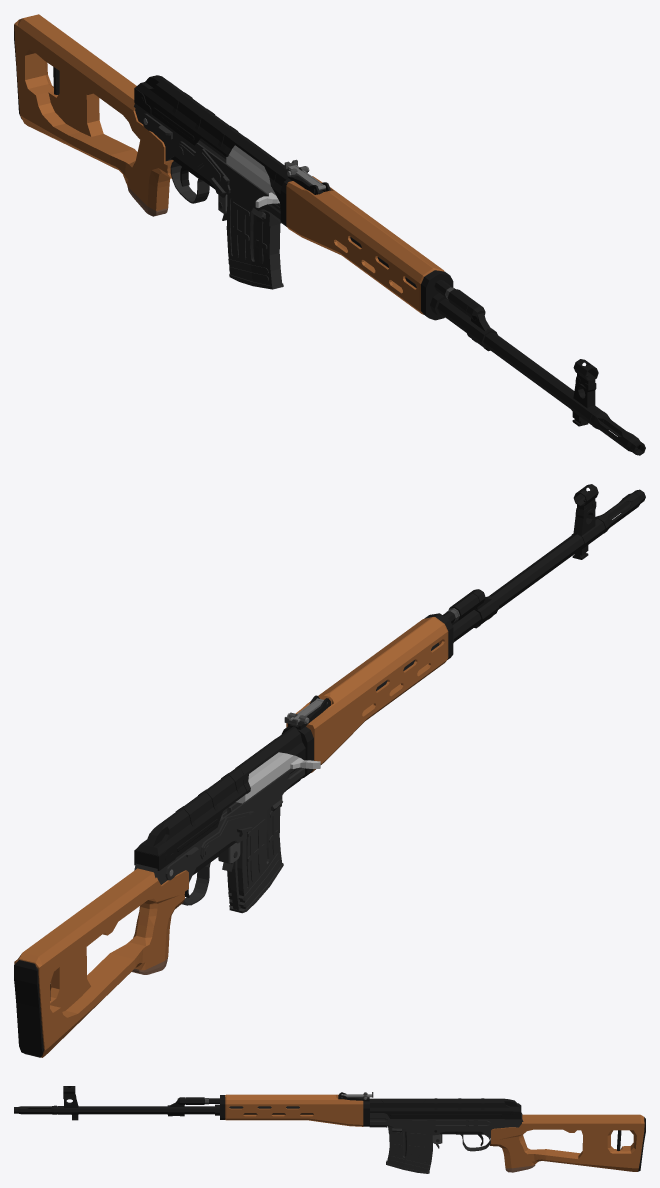
The model's file is svd.glb.
3 views of the same model, one above another, from view 1: azimuth 30°, elevation 25°; view 2: azimuth 150°, elevation 25°; view 3: azimuth 270°, elevation 25° (orthographic). The views are drawn at different scales.
Parts seen in each view (by area): view 1: Object_2, Object_6, Object_9, Object_5; view 2: Object_2, Object_6, Object_9, Object_3, Object_5; view 3: Object_2, Object_6, Object_9, Object_7.
Boxes of the visible parts, x1,y1,x2,y2 form: Object_2: [14, 14, 444, 314]; Object_6: [53, 67, 645, 455]; Object_9: [134, 103, 283, 289]; Object_5: [226, 145, 279, 207]; Object_2: [14, 617, 448, 1057]; Object_6: [50, 484, 645, 1000]; Object_9: [134, 767, 304, 913]; Object_3: [14, 960, 43, 1057]; Object_5: [236, 752, 320, 803]; Object_2: [225, 1094, 644, 1171]; Object_6: [14, 1086, 621, 1150]; Object_9: [369, 1112, 523, 1173]; Object_7: [205, 1092, 441, 1143].
Bounding box in the file's own units: 0.063 × 0.2169 × 1.45.
